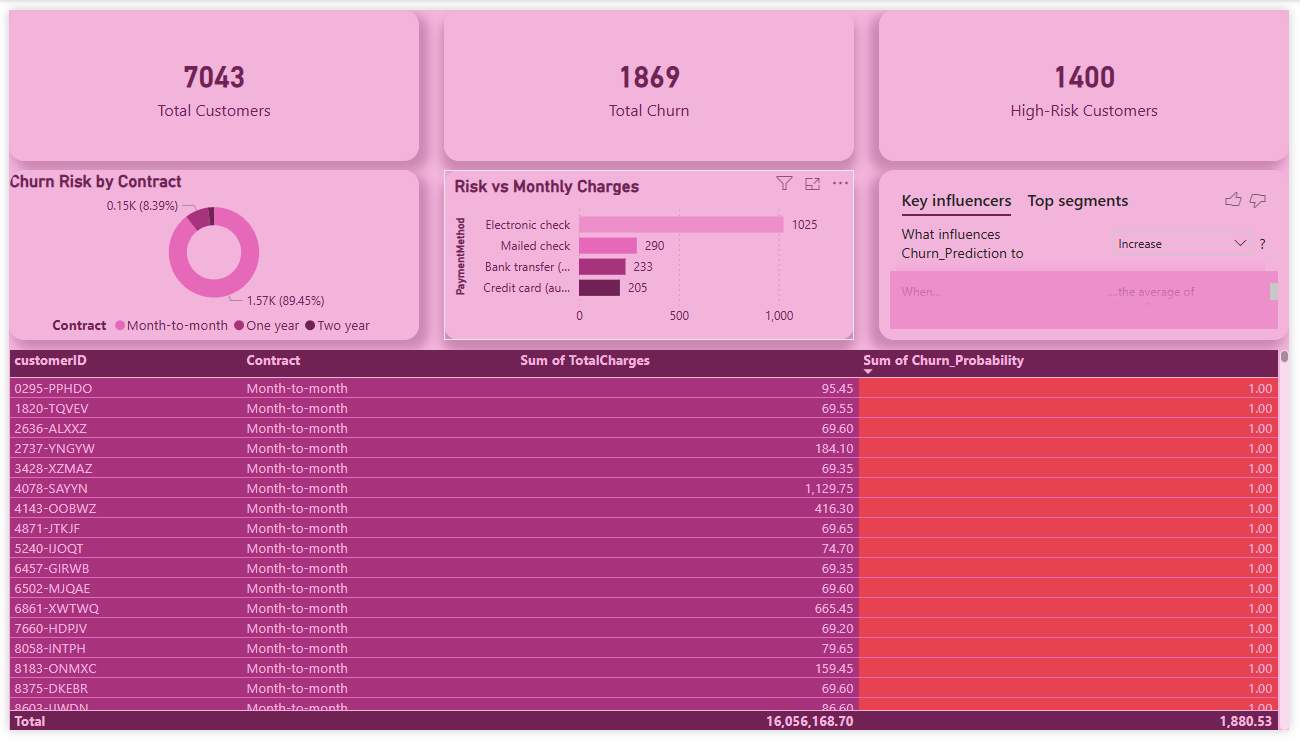

The page's visual inventory and layout, read from the dashboard file:
{"tool":"powerbi","page":{"name":"Churn_Risk_Monitor","canvas":[1280,720],"ordinal":0},"visuals":[{"type":"card","fields":{"Values":["Count(public churn_predictions_results.customerID)"]},"box":[0,0,410,150.9],"z":0},{"type":"card","fields":{"Values":["Sum(public churn_predictions_results.Churn)"]},"box":[435.2,0,410,150.9],"z":1000},{"type":"card","fields":{"Values":["Count(public churn_predictions_results.customerID)"]},"box":[870.3,0,410,150.9],"z":2000},{"type":"tableEx","fields":{"Values":["public churn_predictions_results.customerID","public churn_predictions_results.Contract","Sum(public churn_predictions_results.TotalCharges)","Sum(public churn_predictions_results.Churn_Probability)"]},"box":[0,340,1280,380],"z":3000},{"type":"donutChart","title":"Churn Risk by Contract","fields":{"Category":["public churn_predictions_results.Contract"],"Y":["CountNonNull(public churn_predictions_results.customerID)"]},"box":[0,160,410,170],"z":4000},{"type":"clusteredBarChart","title":"Risk vs Monthly Charges","fields":{"Category":["public churn_predictions_results.PaymentMethod"],"Y":["Count(public churn_predictions_results.customerID)"]},"box":[435,160,410,170],"z":5000},{"type":"keyDriversVisual","fields":{"Target":["public churn_predictions_results.Churn_Prediction"],"ExplainBy":["public churn_predictions_results.Contract","public churn_predictions_results.InternetService","public churn_predictions_results.OnlineSecurity","public churn_predictions_results.TechSupport","public churn_predictions_results.PaymentMethod","Sum(public churn_predictions_results.tenure)"]},"box":[870,160,410,170],"z":6000}]}

Visuals, with their boxes in screenshot pixels (x1, y1, x2, y2), scaled from the page's 1280x720 canvas onto the 1300x741 screenshot:
card - Count(public churn_predictions_results.customerID): [left=0, top=0, right=416, bottom=155]
card - Sum(public churn_predictions_results.Churn): [left=442, top=0, right=858, bottom=155]
card - Count(public churn_predictions_results.customerID): [left=884, top=0, right=1299, bottom=155]
tableEx - public churn_predictions_results.customerID x public churn_predictions_results.Contract: [left=0, top=350, right=1299, bottom=740]
"Churn Risk by Contract" donutChart: [left=0, top=165, right=416, bottom=340]
"Risk vs Monthly Charges" clusteredBarChart: [left=442, top=165, right=858, bottom=340]
keyDriversVisual - public churn_predictions_results.Churn_Prediction x public churn_predictions_results.Contract: [left=884, top=165, right=1299, bottom=340]
